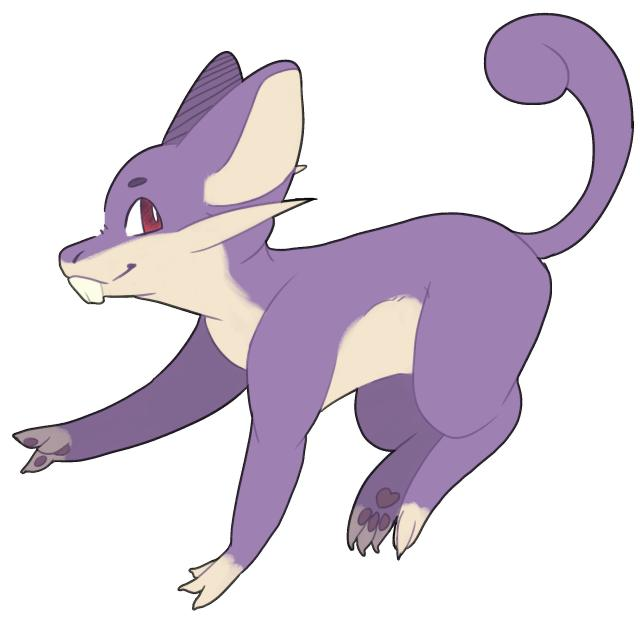Rattata: (52, 63, 564, 522)
